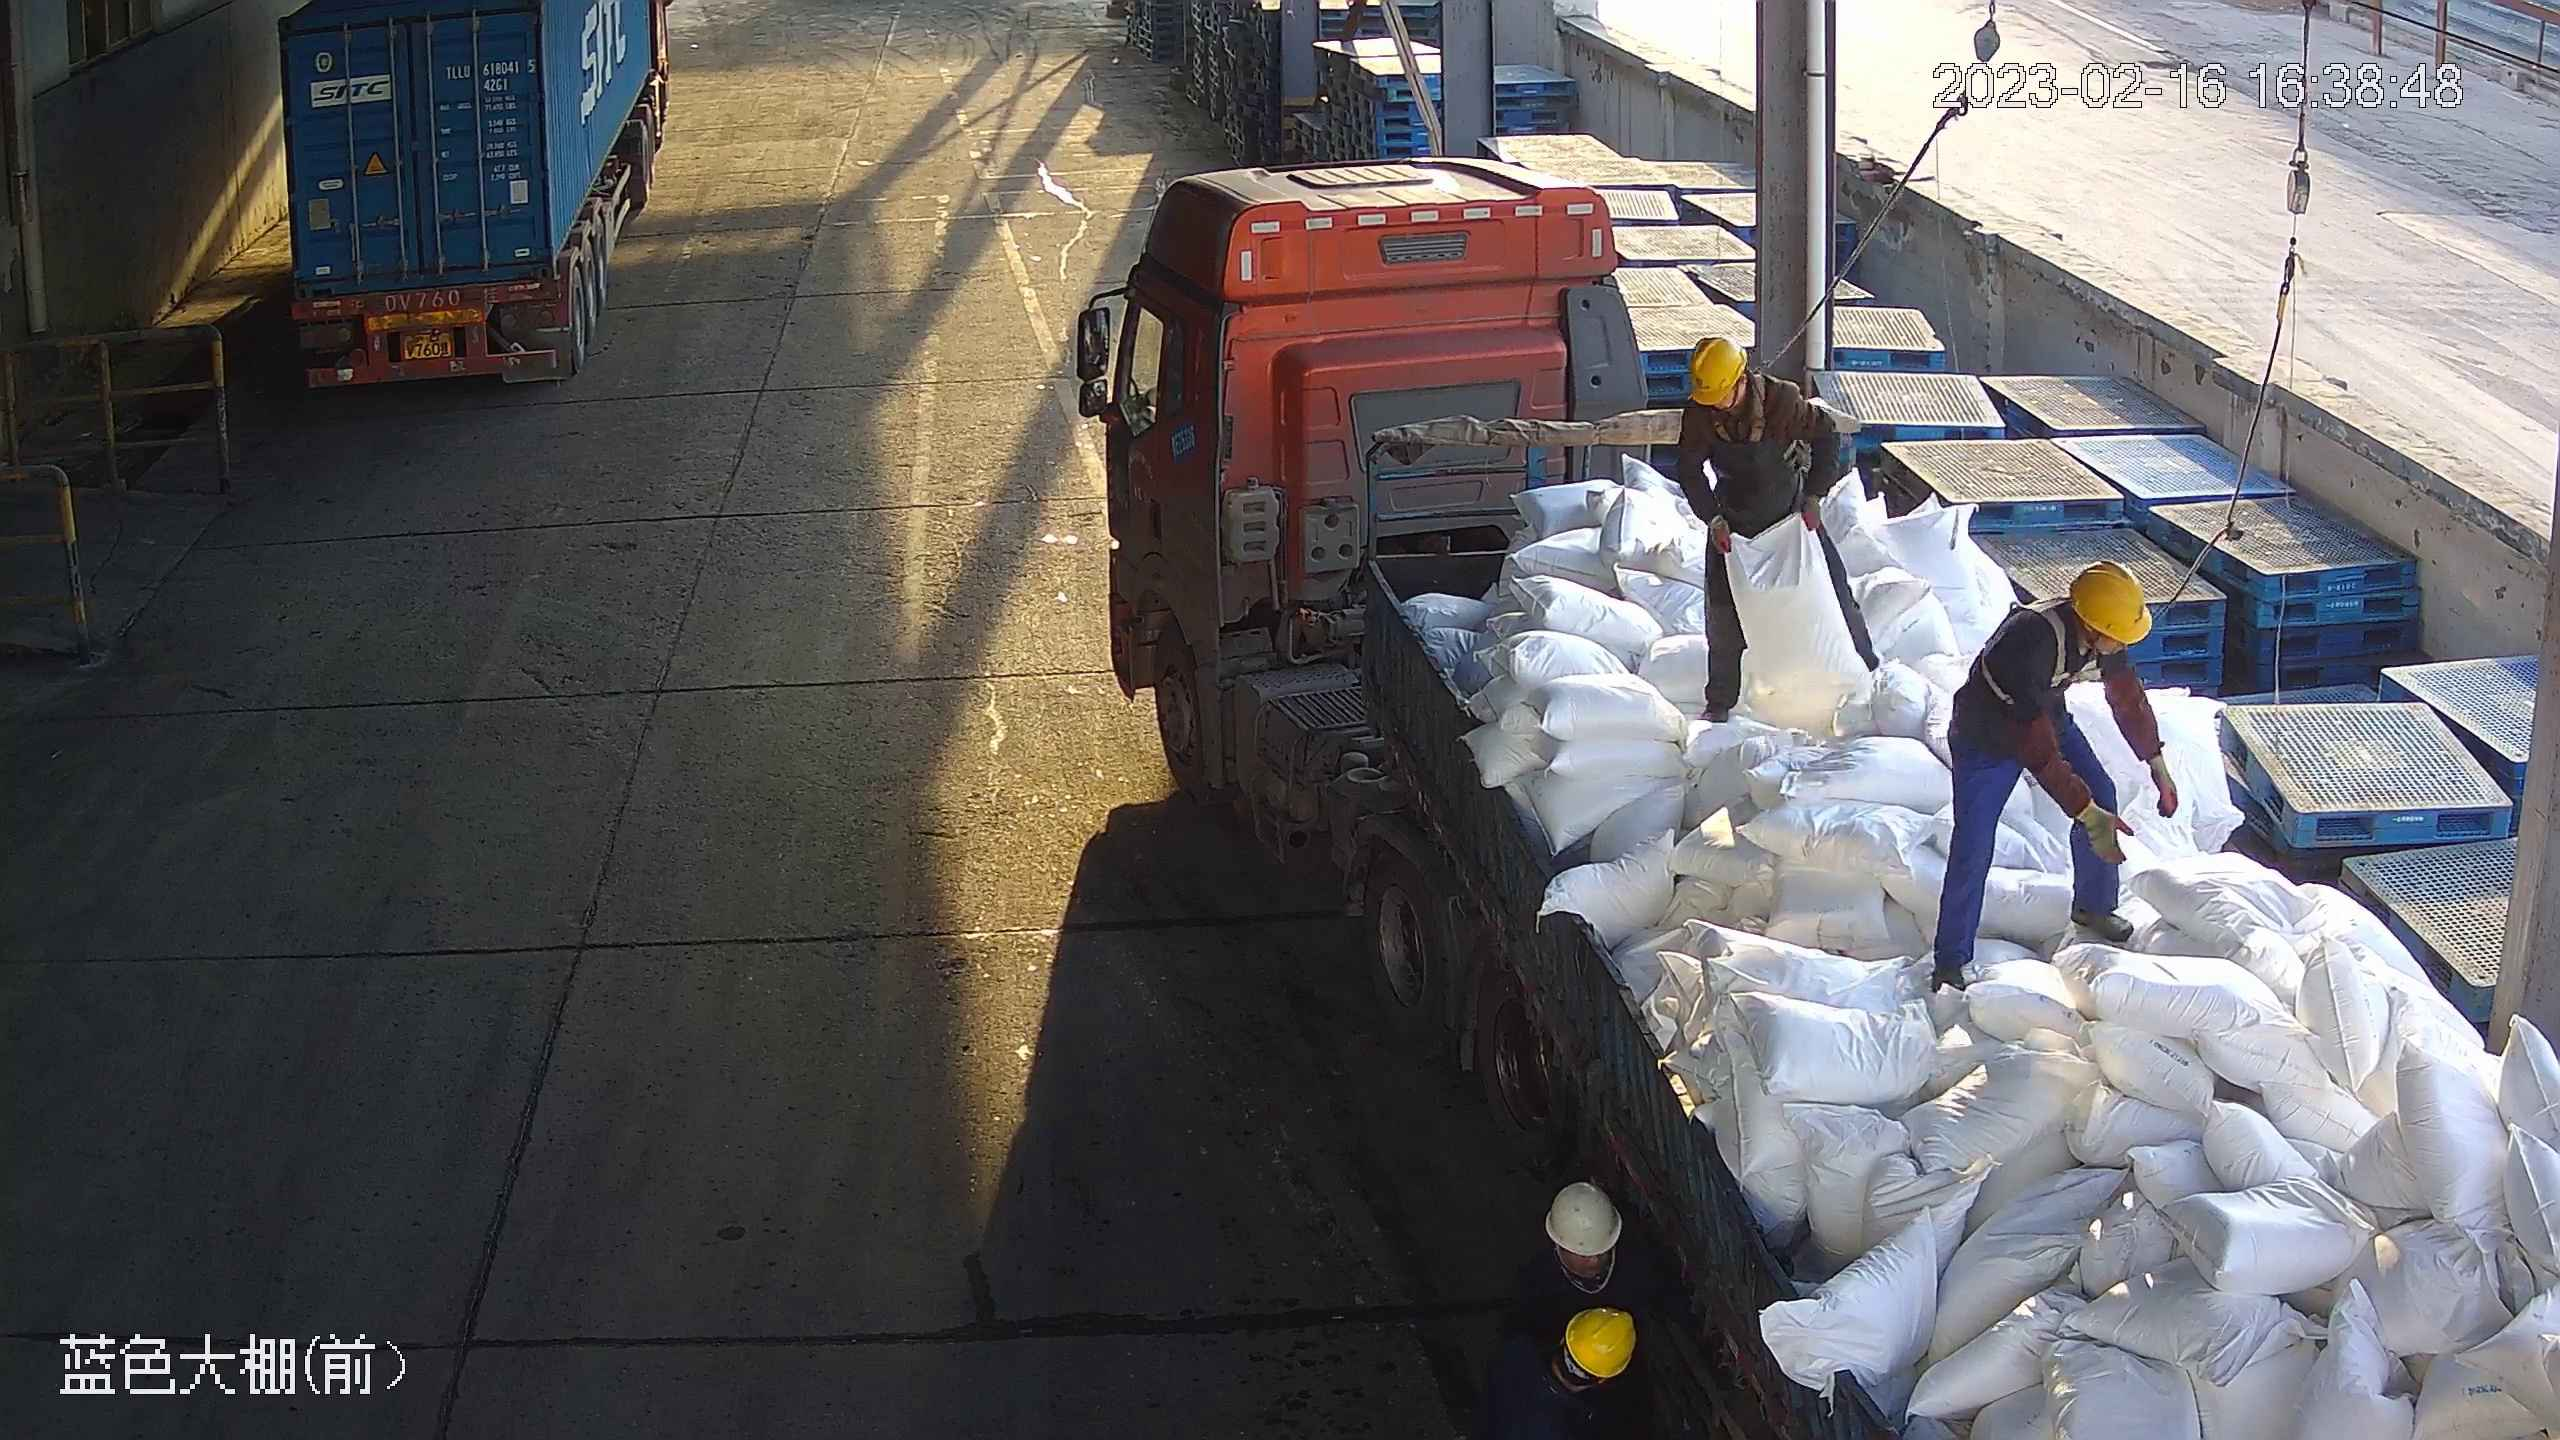belt: (1965, 608, 2067, 701), (1715, 402, 1776, 451)
head: (2007, 557, 2146, 690), (1677, 337, 1797, 432)
helmet: (2070, 553, 2156, 641), (1546, 1183, 1625, 1251), (1565, 1308, 1639, 1372), (1681, 339, 1751, 404)
people: (1935, 562, 2177, 992), (1667, 341, 1862, 729)
truck: (1067, 158, 2560, 1440), (283, 4, 684, 427)
